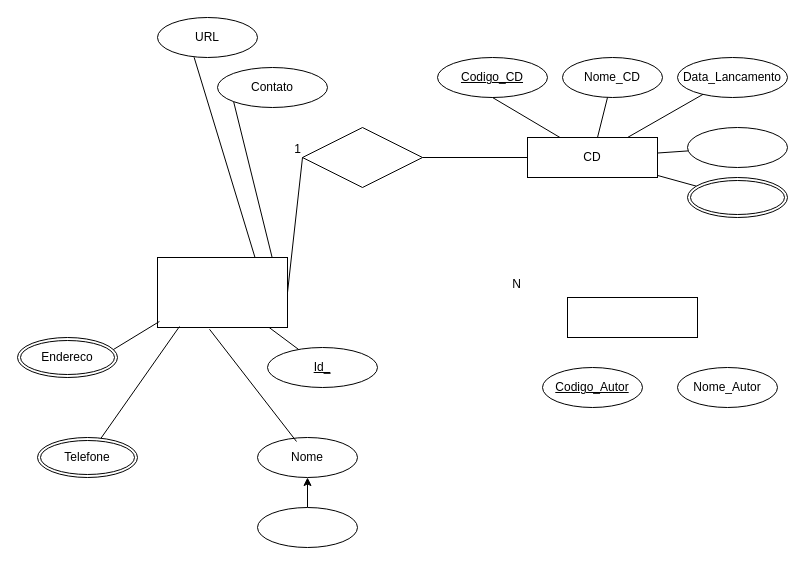
Some shapes in this 805 by 565 pixel diagram are drawn without their labels. The centre of each missing label's shape, as x and y in pixels:
"Apelido" goes at point 307,527.
"AUTOR" goes at point 632,317.
"CD_Indicado" goes at point 737,147.
"collection_point (ponto de coleta)" goes at point 222,292.
"Grava" goes at point 362,157.
"Preco_Venda" goes at point 737,197.
